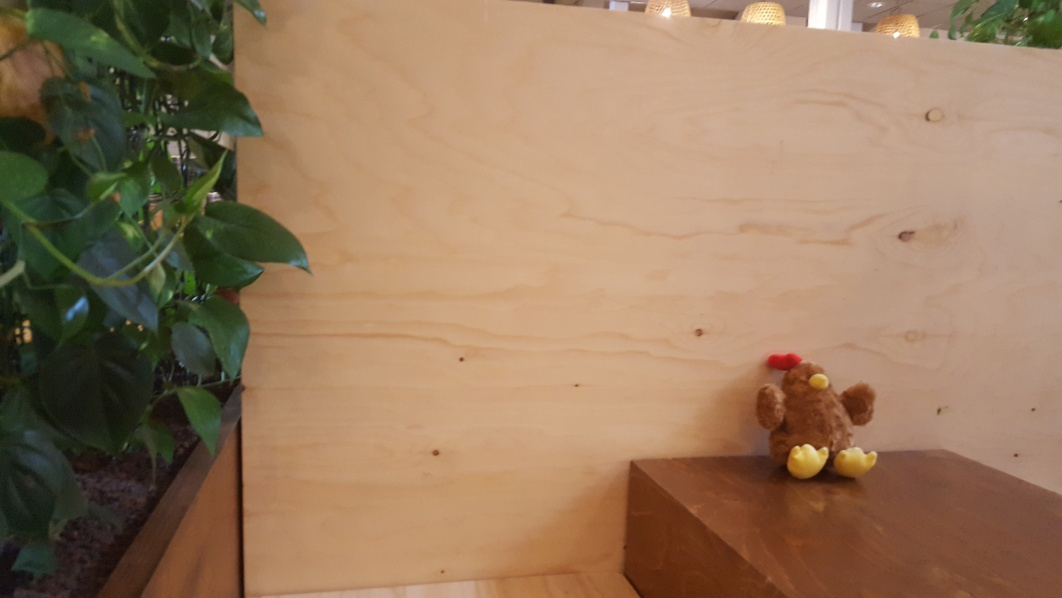chicken: (755, 350, 883, 479)
